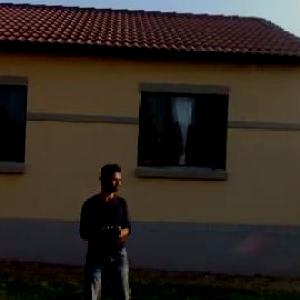follow: (74, 160, 136, 299)
